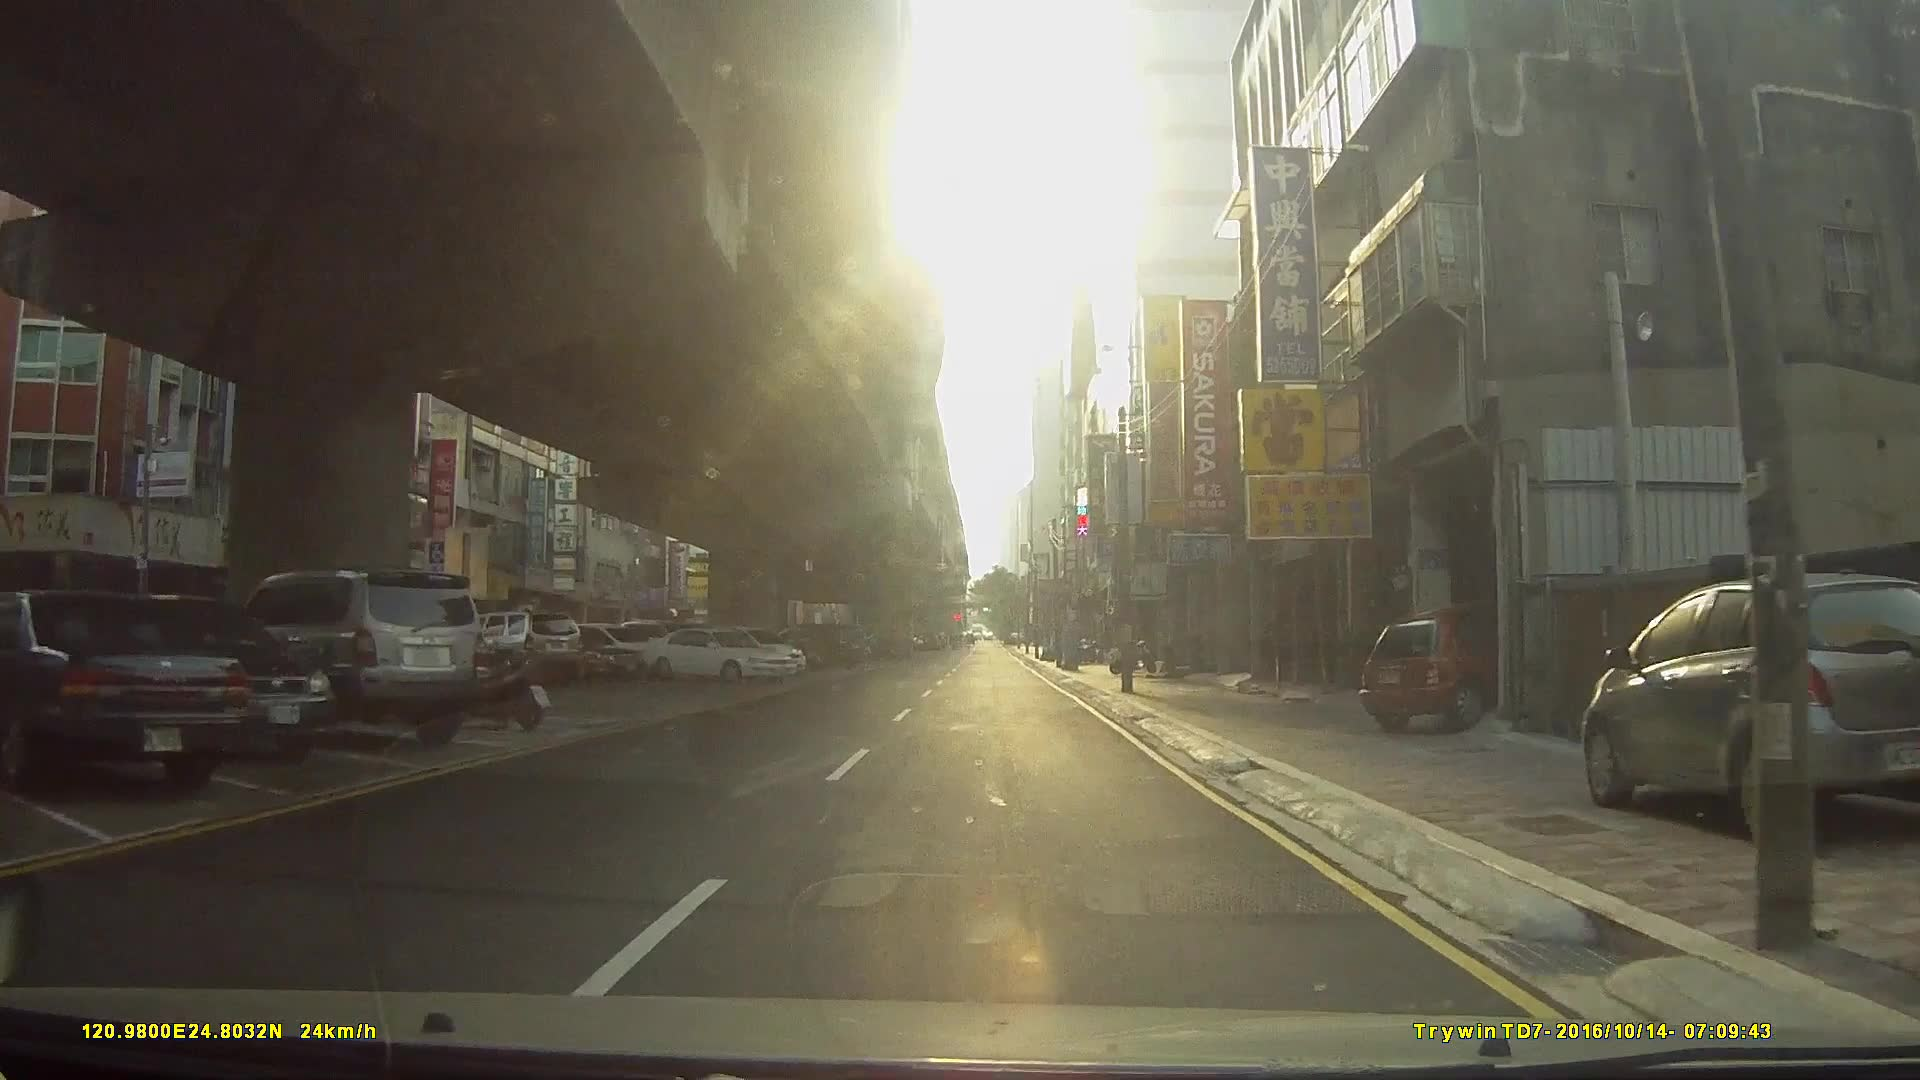vehicle: (1581, 568, 1920, 840), (0, 585, 251, 790), (212, 567, 487, 753), (66, 592, 335, 760), (1360, 603, 1536, 729), (487, 622, 644, 684), (637, 622, 796, 682), (454, 608, 582, 680)
